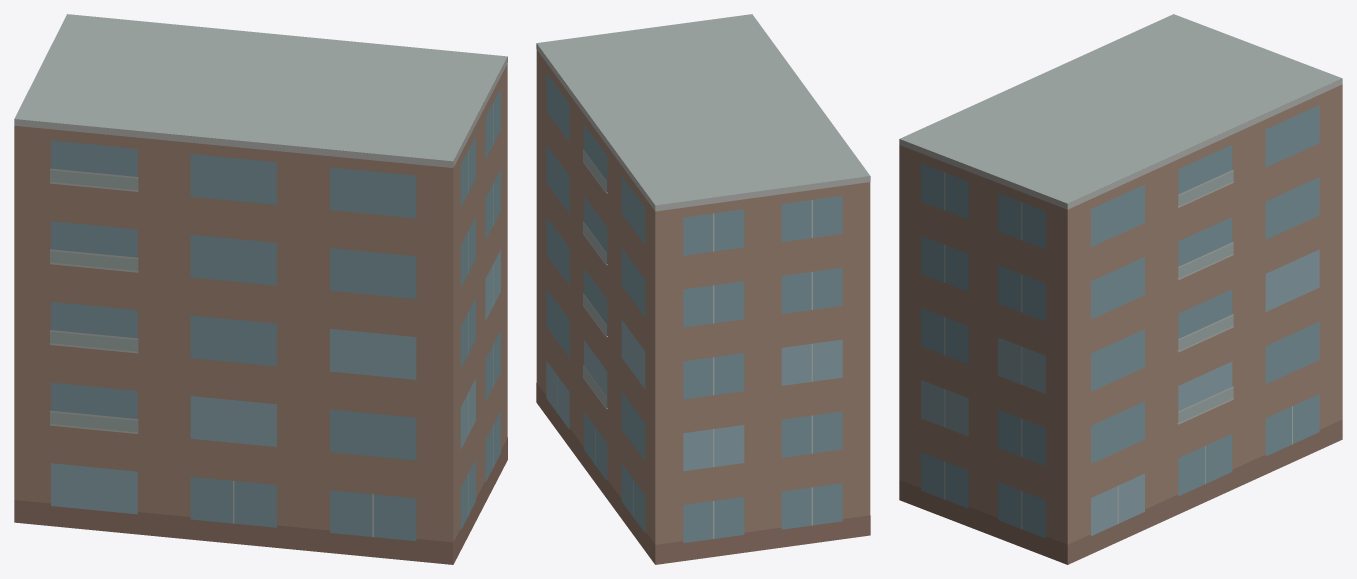
File: survey-upis-32843805.glb
3 renders of one model, left to right at view 1: azimuth 30°, elevation 25°; view 2: azimuth 150°, elevation 25°; view 3: azimuth 270°, elevation 25°, orthographic. The views are drawn at different scales.
Parts seen in each view (by area): view 1: survey-upis-32843805.tmp; view 2: survey-upis-32843805.tmp; view 3: survey-upis-32843805.tmp.
Part boxes in pixels (x1,y1,x2,y2): survey-upis-32843805.tmp: [14, 14, 507, 564]; survey-upis-32843805.tmp: [536, 14, 870, 564]; survey-upis-32843805.tmp: [899, 14, 1342, 564].
Bounding box in the file's own units: 16.45 × 14.6 × 16.24.
